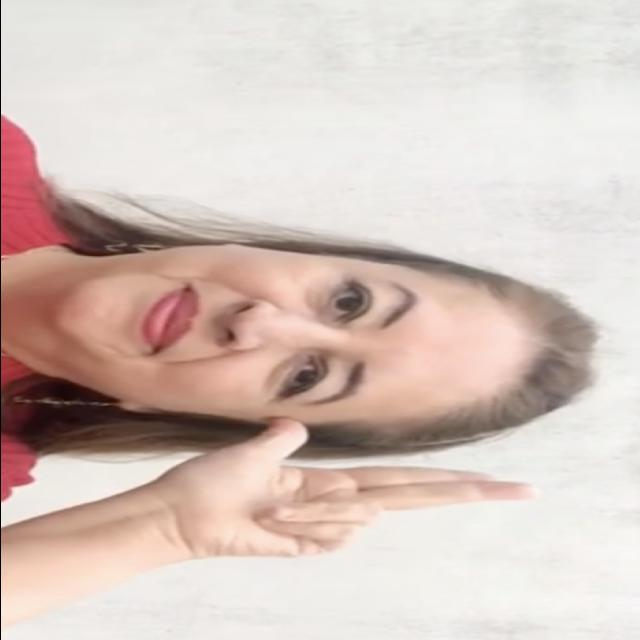hola: (165, 413, 551, 573)
